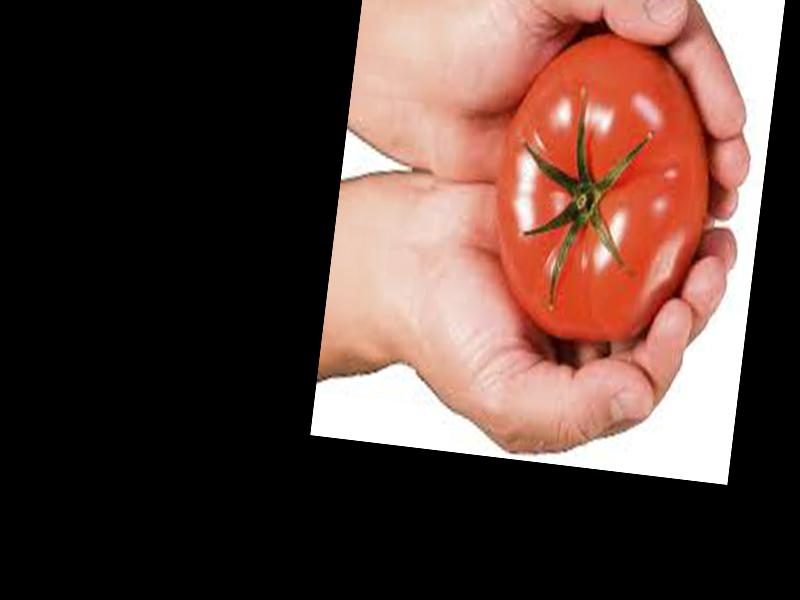Tomato: (482, 22, 723, 355)
